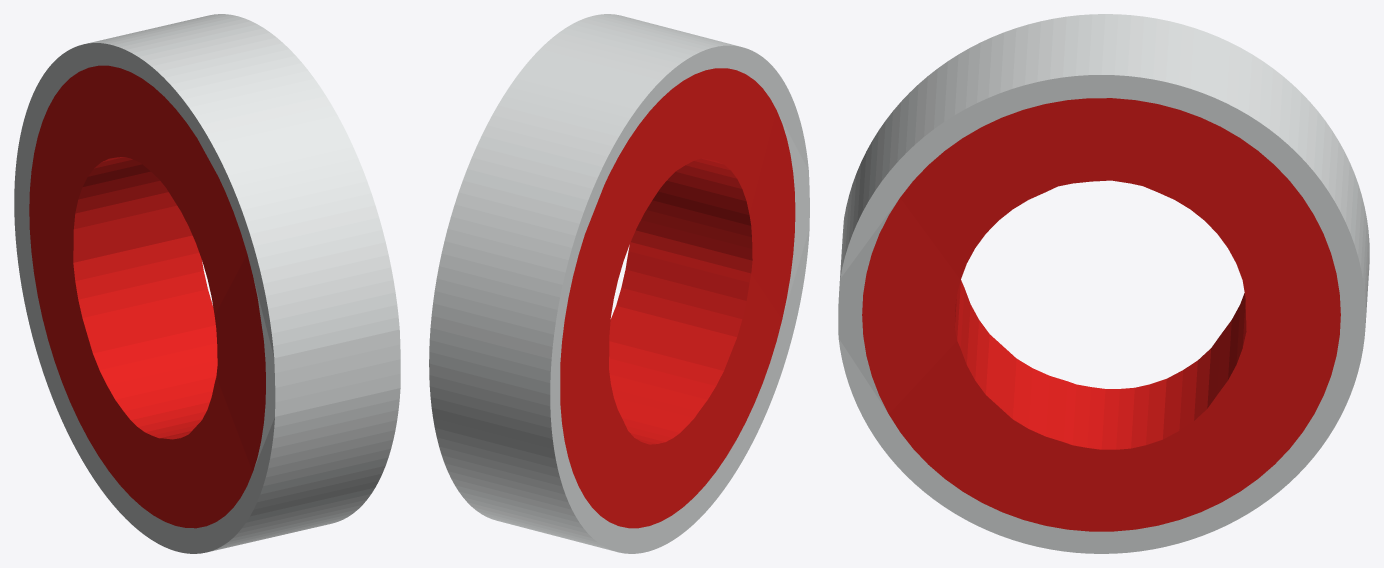
Rendered from Baugruppe.gltf.
3 renders of one model, left to right at view 1: azimuth 30°, elevation 25°; view 2: azimuth 150°, elevation 25°; view 3: azimuth 270°, elevation 25°, orthographic.
Parts seen in each view (by area): view 1: Baugruppe; view 2: Baugruppe; view 3: Baugruppe.
Part boxes in pixels (x1,y1,x2,y2): Baugruppe: (14,14,400,553); Baugruppe: (429,14,809,553); Baugruppe: (838,14,1369,553).
Bounding box in the file's own units: 0.4655 × 1.66 × 1.67.
